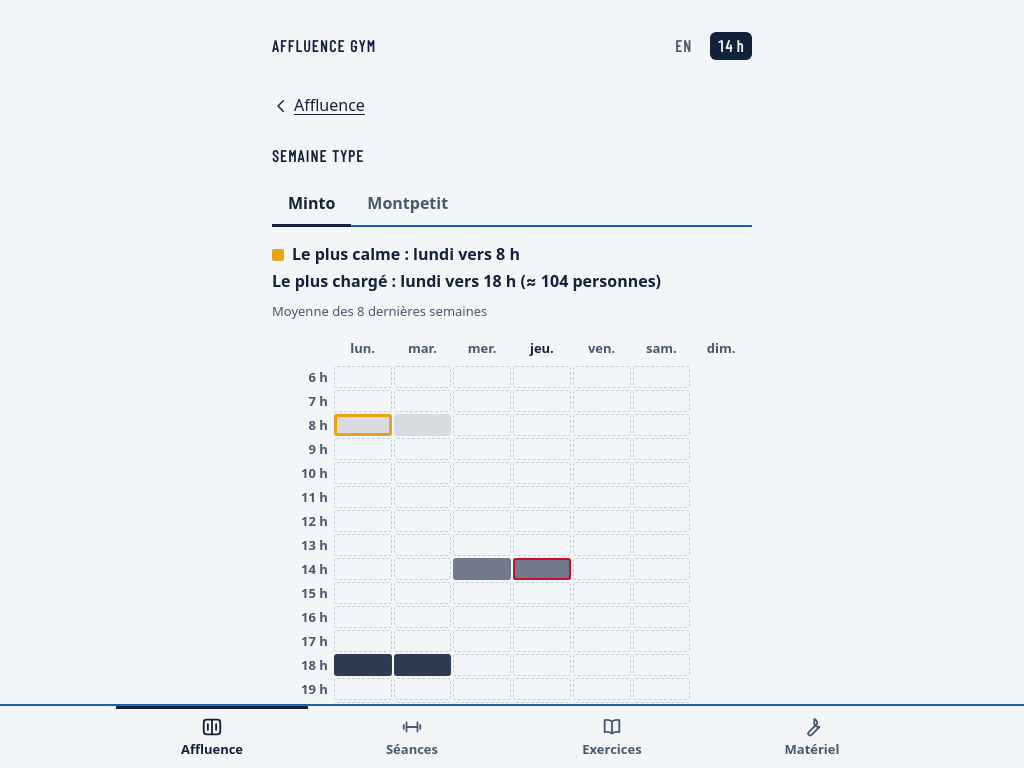
Scenario: semaine type › passe d'une salle à l'autre et dit quand l'historique manque
The width and height of the screenshot is (1024, 768).
Click the tab "Montpetit": click(408, 205) [351, 183, 464, 227]
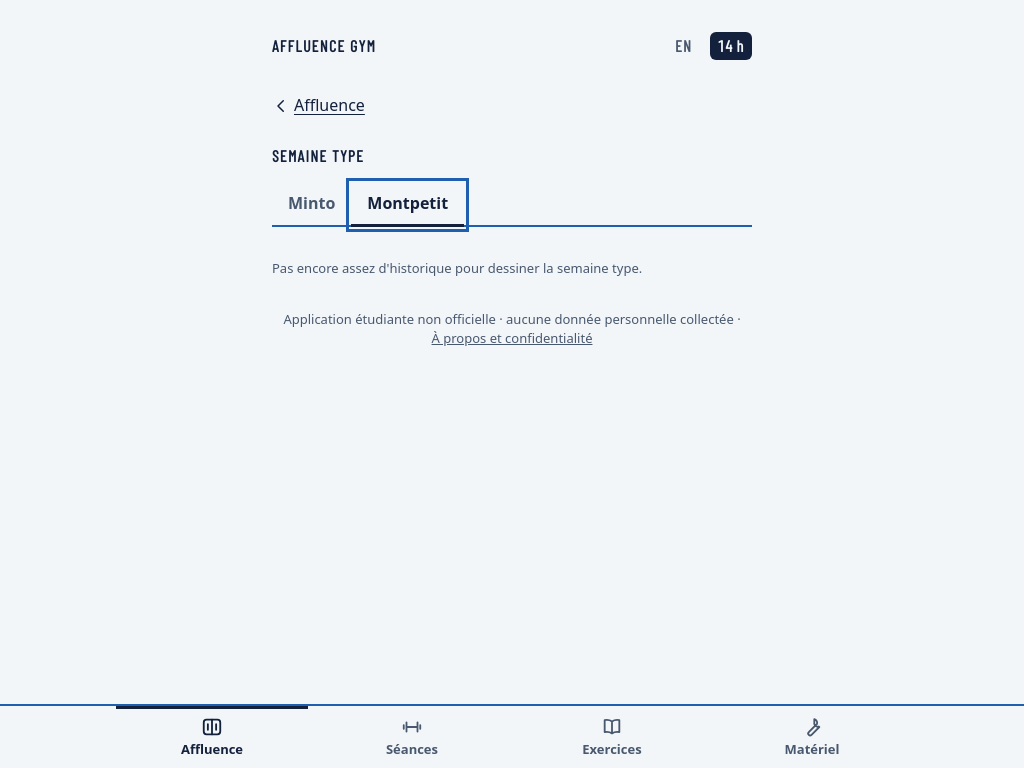
expect the text "Pas encore assez d'historique pour dessiner la semaine type." is shown: met, box [272, 259, 642, 277]
